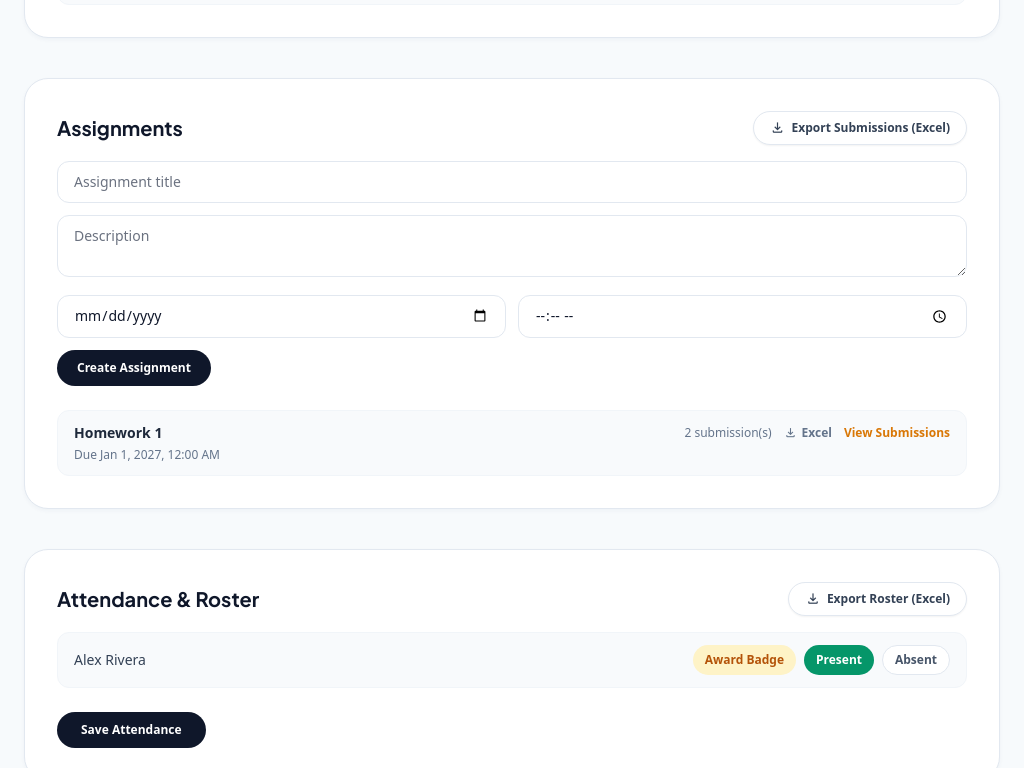
TeacherClassDetailPage › clicking View Submissions shows student submission with status badge
This screenshot has width=1024, height=768.
(page scrolled)
Expected: the text "Homework 1" is shown, left=74, top=423, right=162, bottom=443
Step 1. Click the button "View Submissions" → (897, 433), box left=844, top=425, right=950, bottom=441
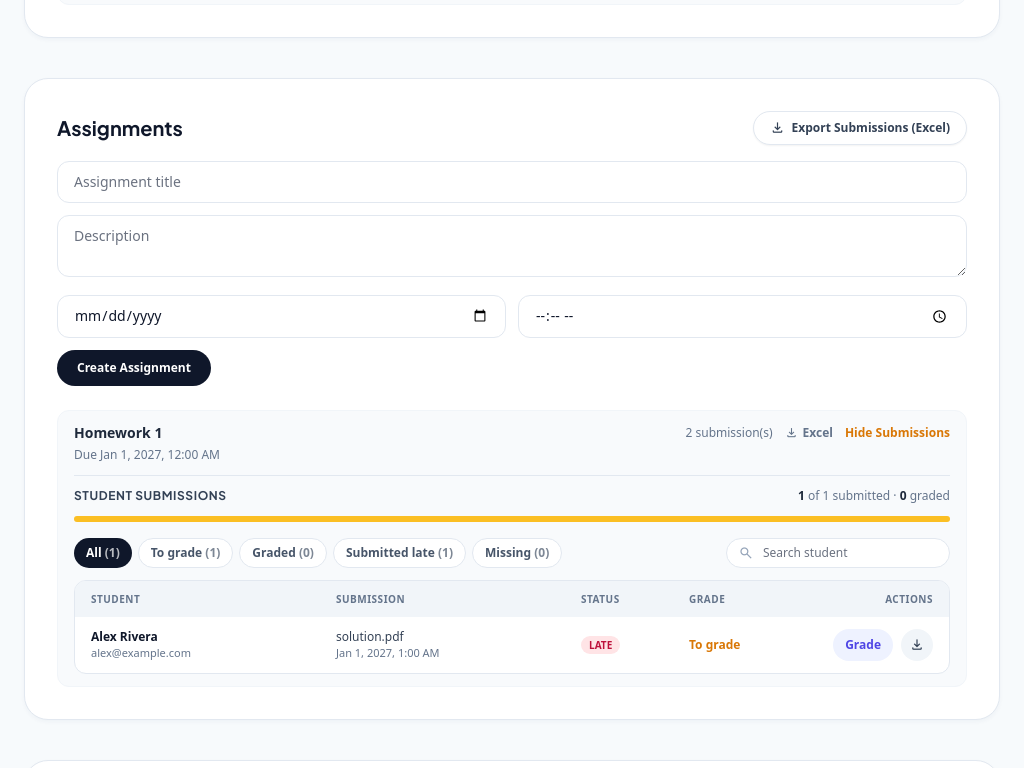
Expected: the heading "Student Submissions" is shown, left=74, top=488, right=227, bottom=504
Expected: the text "solution.pdf" is shown, left=336, top=628, right=404, bottom=645
Expected: the text "Late" is shown, left=581, top=636, right=620, bottom=654
